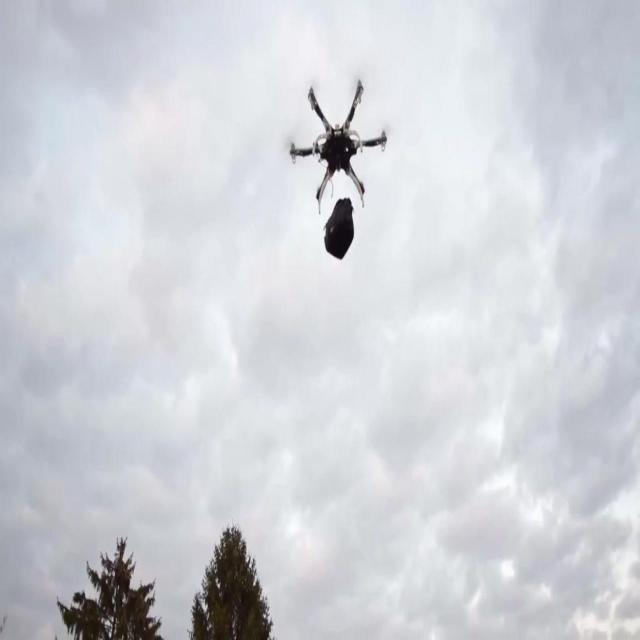UAV: (286, 79, 388, 215)
